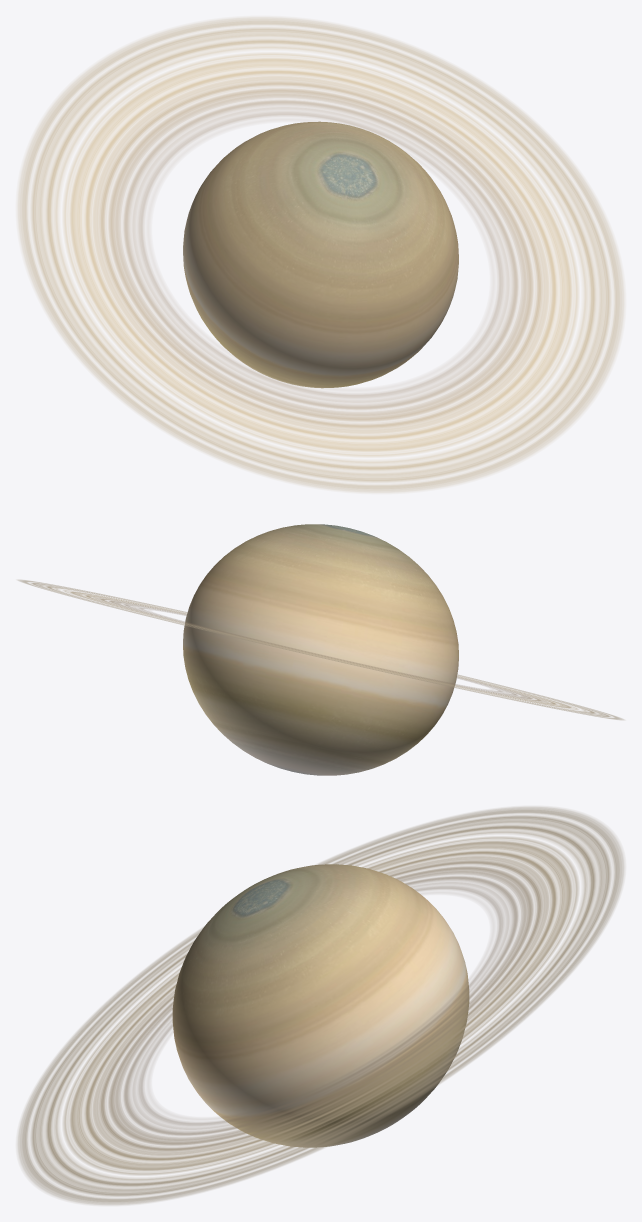
The model's file is saturn.glb.
3 renders of one model, top to bottom at view 1: azimuth 30°, elevation 25°; view 2: azimuth 150°, elevation 25°; view 3: azimuth 270°, elevation 25°, orthographic. The views are drawn at different scales.
Visible parts, largest first — view 1: saturn_rings, saturn; view 2: saturn, saturn_rings; view 3: saturn_rings, saturn.
Part boxes in pixels (x1=…): saturn_rings: x1=17, y1=17, x2=624, y2=492; saturn: x1=183, y1=121, x2=458, y2=388; saturn: x1=183, y1=524, x2=458, y2=775; saturn_rings: x1=18, y1=579, x2=623, y2=720; saturn_rings: x1=17, y1=806, x2=624, y2=1205; saturn: x1=172, y1=864, x2=469, y2=1147.
Bounding box in the file's own units: 4.54 × 2.04 × 4.06.
Materials: 2 (2 with a texture image).
